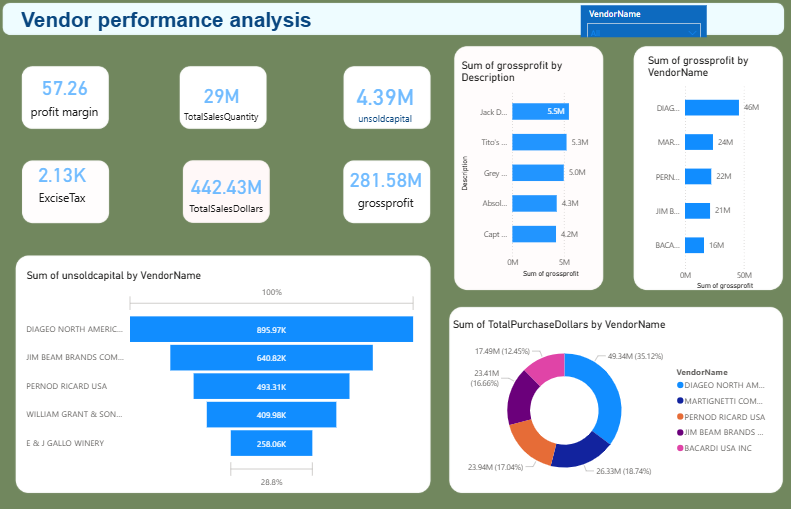

Layout of this report page (visuals, bound fields, positions):
{"tool":"powerbi","page":{"name":"Page 1","canvas":[1272,826],"ordinal":0},"visuals":[{"type":"card","fields":{"Values":["Sheet1.grossprofit"]},"box":[544,256,156,88],"z":0},{"type":"card","fields":{"Values":["Sheet1.TotalSalesDollars"]},"box":[250,256,234,106],"z":2000},{"type":"card","fields":{"Values":["Sheet1.TotalExciseTax"]},"box":[14,240,180,104],"z":3000},{"type":"barChart","fields":{"Category":["Sheet1.VendorName"],"Y":["Sheet1.grossprofit"]},"box":[1036,88,210,382],"z":4000},{"type":"barChart","fields":{"Category":["Sheet1.Description"],"Y":["Sheet1.grossprofit"]},"box":[738,96,224,354],"z":5000},{"type":"card","fields":{"Values":["Sheet1.unsoldcapital"]},"box":[536,106,170,114],"z":6000},{"type":"card","fields":{"Values":["Sheet1.profit margin"]},"box":[0,100,216,106],"z":7000},{"type":"funnel","fields":{"Y":["Sheet1.unsoldcapital"],"Category":["Sheet1.VendorName"]},"box":[42,432,634,356],"z":8000},{"type":"donutChart","fields":{"Y":["Sheet1.TotalPurchaseDollars"],"Category":["Sheet1.VendorName"]},"box":[724,510,522,278],"z":9000},{"type":"card","fields":{"Values":["Sheet1.TotalSalesQuantity"]},"box":[248,88,222,150],"z":12000},{"type":"slicer","fields":{"Values":["Sheet1.VendorName"]},"box":[934.5,11,201.7,50.8],"z":14000},{"type":"shape","box":[6,8,530,50],"z":14001}]}

Visuals, with their boxes in screenshot pixels (x1, y1, x2, y2), scaled from the page's 1272x826 canvas onto the 791x509 screenshot:
card - Sheet1.grossprofit: [x1=338, y1=158, x2=435, y2=212]
card - Sheet1.TotalSalesDollars: [x1=155, y1=158, x2=301, y2=223]
card - Sheet1.TotalExciseTax: [x1=9, y1=148, x2=121, y2=212]
barChart - Sheet1.VendorName x Sheet1.grossprofit: [x1=644, y1=54, x2=775, y2=290]
barChart - Sheet1.Description x Sheet1.grossprofit: [x1=459, y1=59, x2=598, y2=277]
card - Sheet1.unsoldcapital: [x1=333, y1=65, x2=439, y2=136]
card - Sheet1.profit margin: [x1=0, y1=62, x2=134, y2=127]
funnel - Sheet1.unsoldcapital x Sheet1.VendorName: [x1=26, y1=266, x2=420, y2=486]
donutChart - Sheet1.TotalPurchaseDollars x Sheet1.VendorName: [x1=450, y1=314, x2=775, y2=486]
card - Sheet1.TotalSalesQuantity: [x1=154, y1=54, x2=292, y2=147]
slicer - Sheet1.VendorName: [x1=581, y1=7, x2=707, y2=38]
shape: [x1=4, y1=5, x2=333, y2=36]
